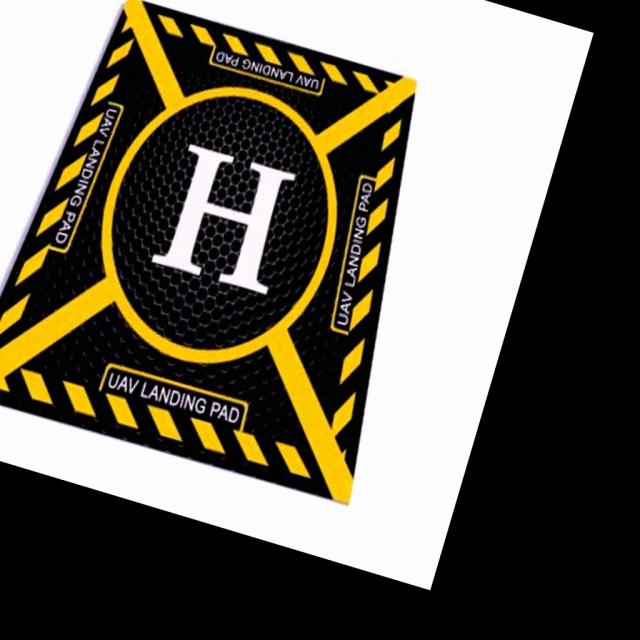helipad: (98, 82, 341, 368)
